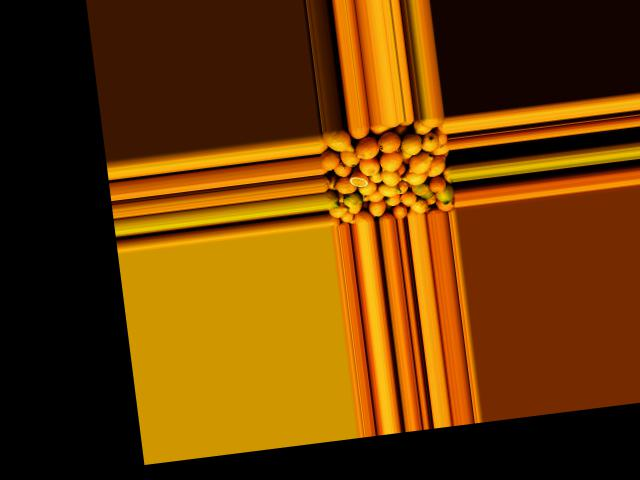lemon: (370, 122, 390, 134)
